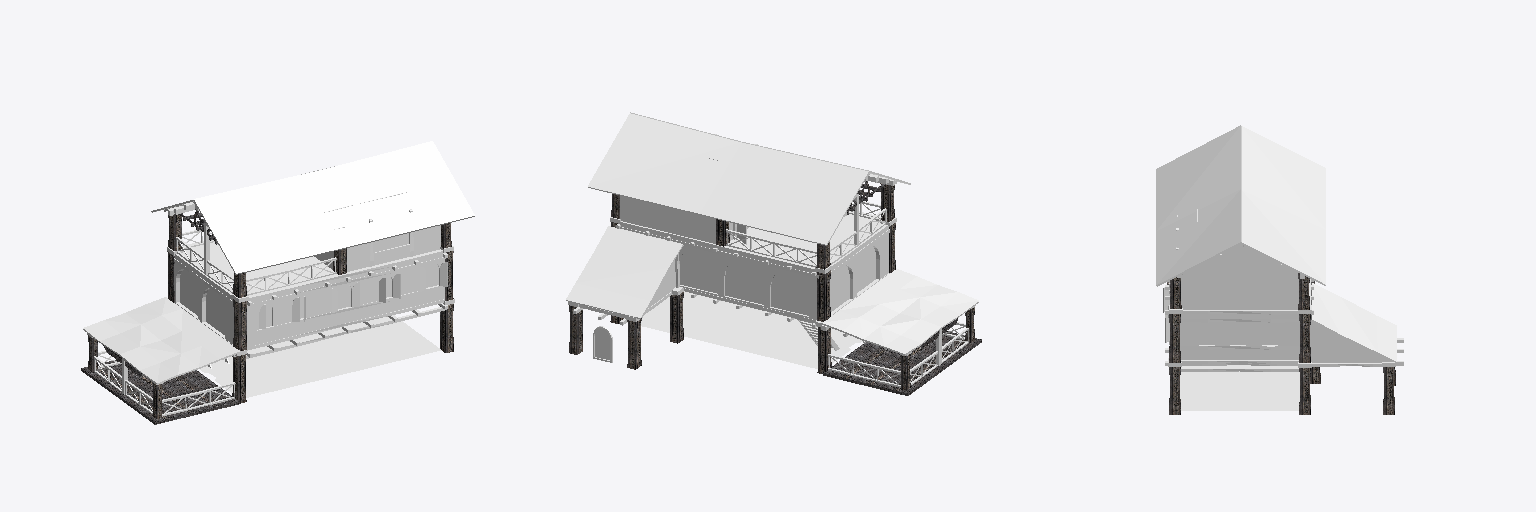
3 views of the same model, side by side, from view 1: azimuth 30°, elevation 25°; view 2: azimuth 150°, elevation 25°; view 3: azimuth 270°, elevation 25° (orthographic).
Visible parts, largest first — view 1: house; view 2: house; view 3: house.
Part boxes in pixels (x1,y1,x2,y2): house: (81,141,474,424); house: (566,112,981,395); house: (1156,125,1403,414).
Bounding box in the file's own units: 33.91 × 18.75 × 23.09.
Materials: 7 (2 with a texture image).